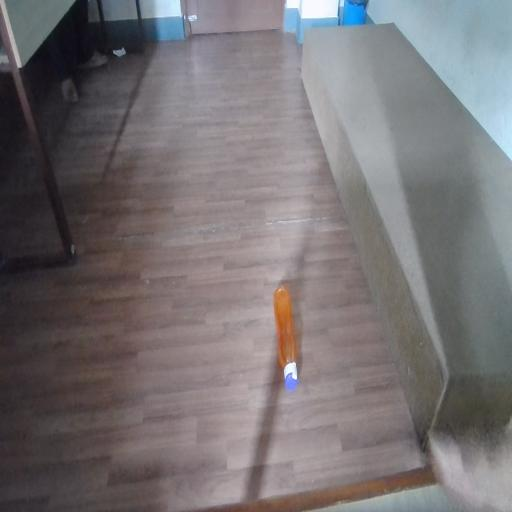Bottle: (266, 270, 316, 417)
